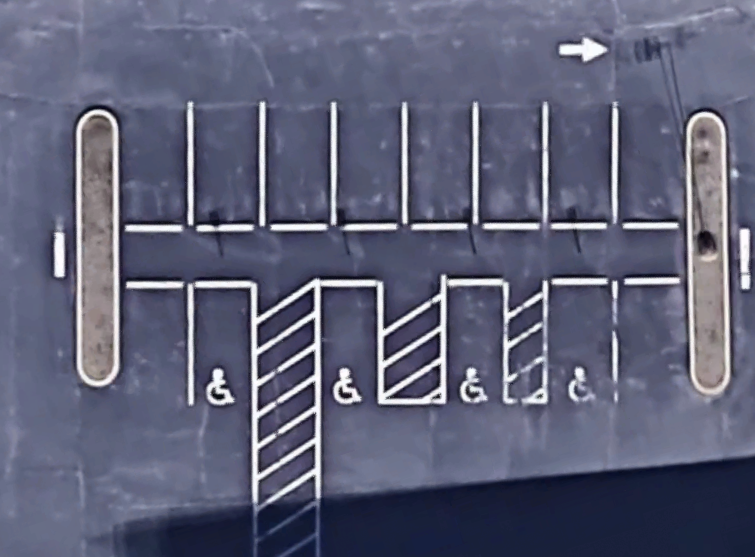Vacant: (614, 282, 691, 405), (119, 101, 191, 228), (191, 102, 264, 227), (262, 103, 335, 227), (117, 285, 190, 407), (615, 104, 689, 224), (333, 103, 405, 226), (404, 104, 476, 226), (476, 103, 546, 226), (545, 103, 614, 225), (547, 284, 617, 404), (190, 287, 253, 405), (445, 283, 505, 404), (319, 284, 380, 403)
